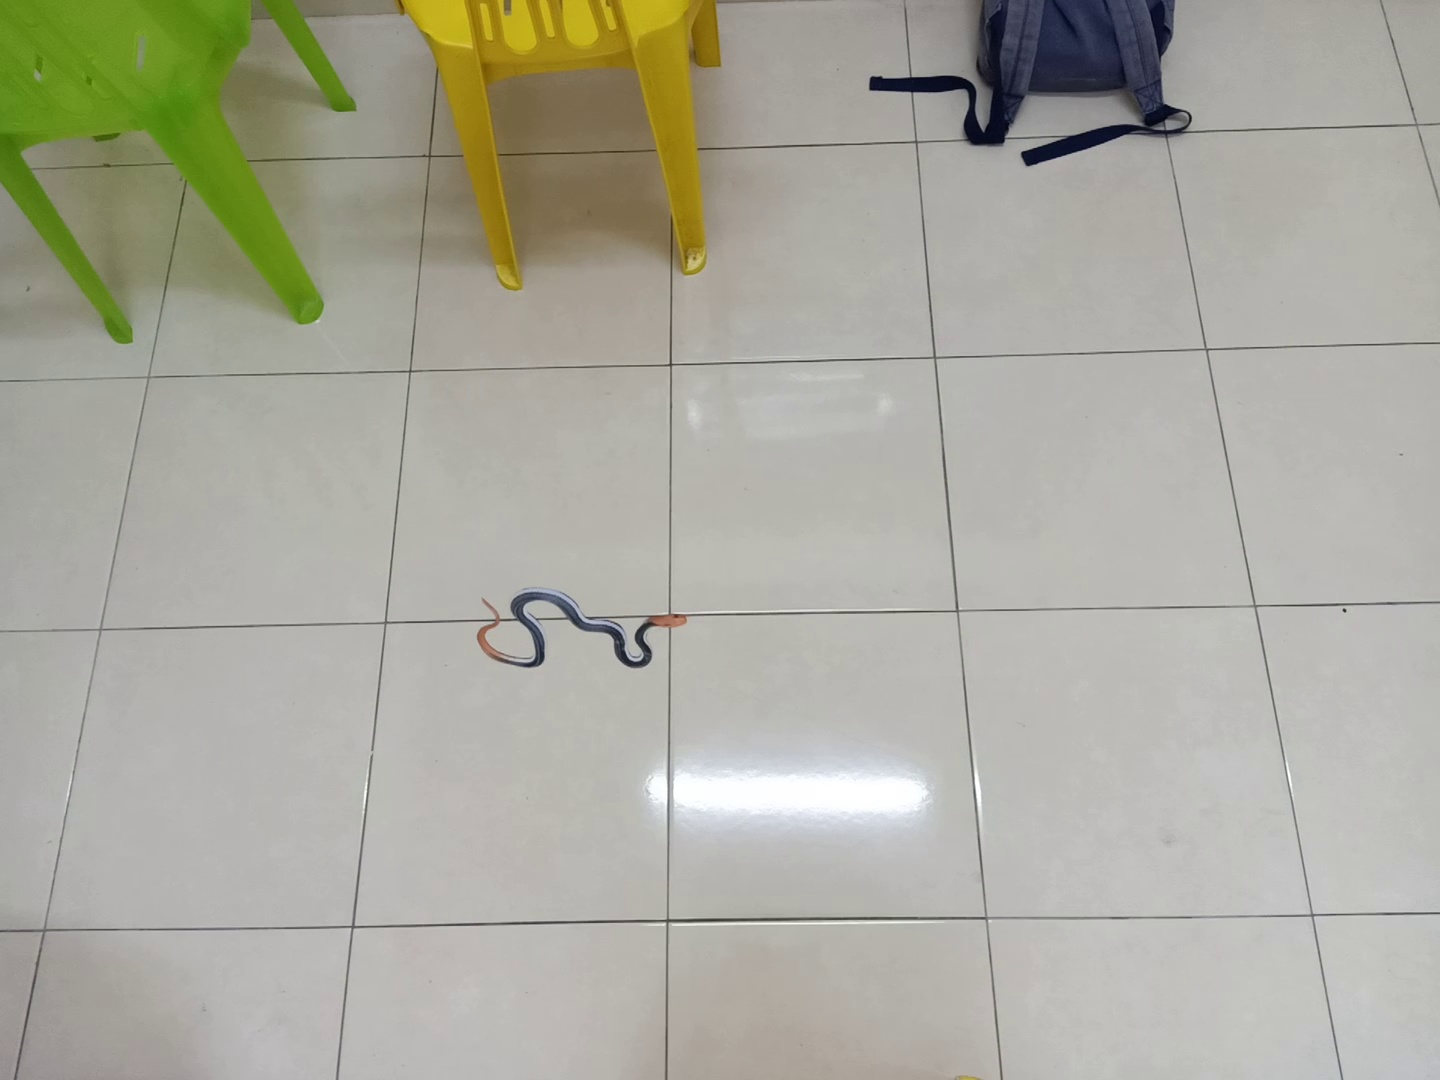snake: (469, 580, 695, 672)
